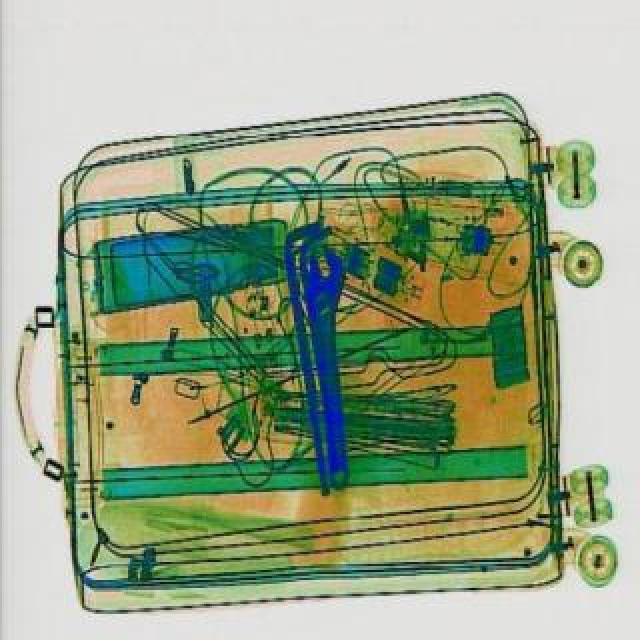scissors: (294, 244, 366, 490)
